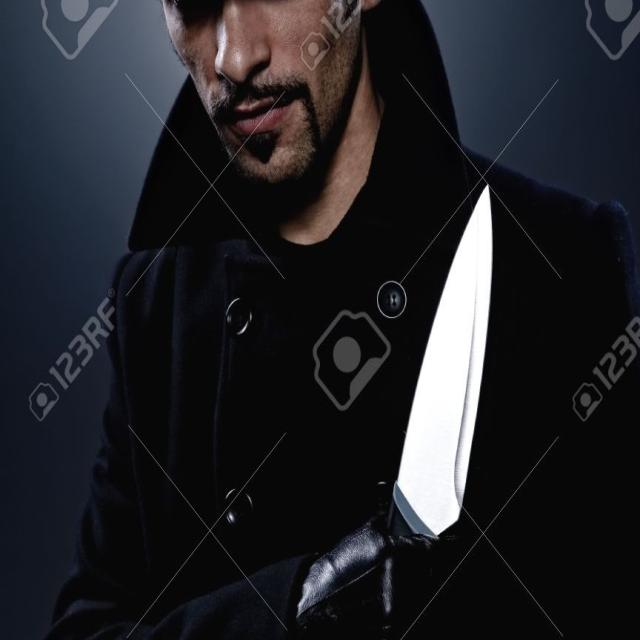knife: (411, 178, 502, 575)
